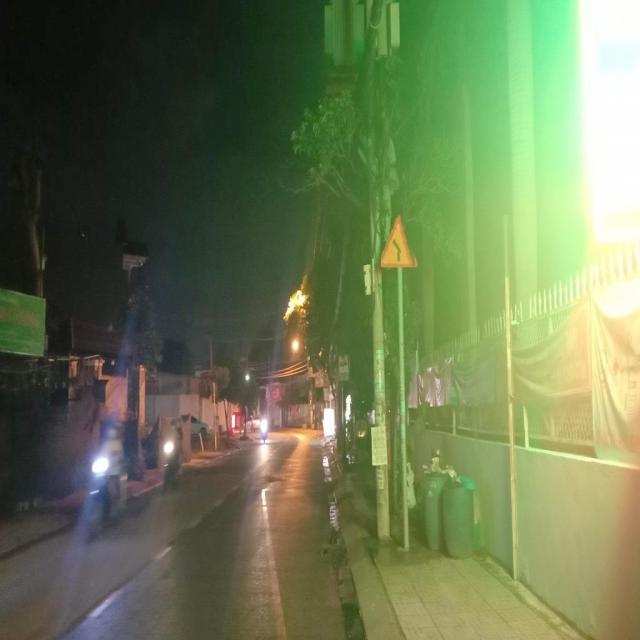201-cho-ngoat-nguy-hiem: (378, 213, 419, 271)
